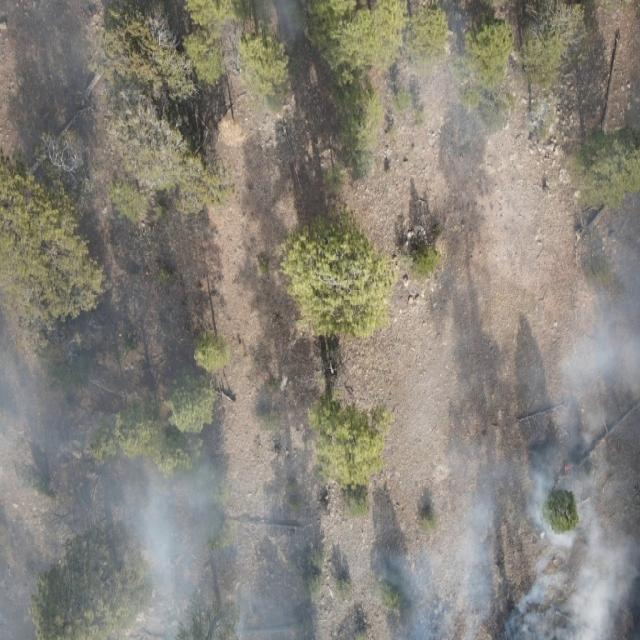fire: (560, 462, 574, 481), (592, 437, 605, 452)
smoke: (0, 296, 230, 640), (325, 509, 640, 640), (525, 237, 640, 509), (230, 431, 325, 640), (262, 0, 319, 56), (464, 462, 525, 508)
